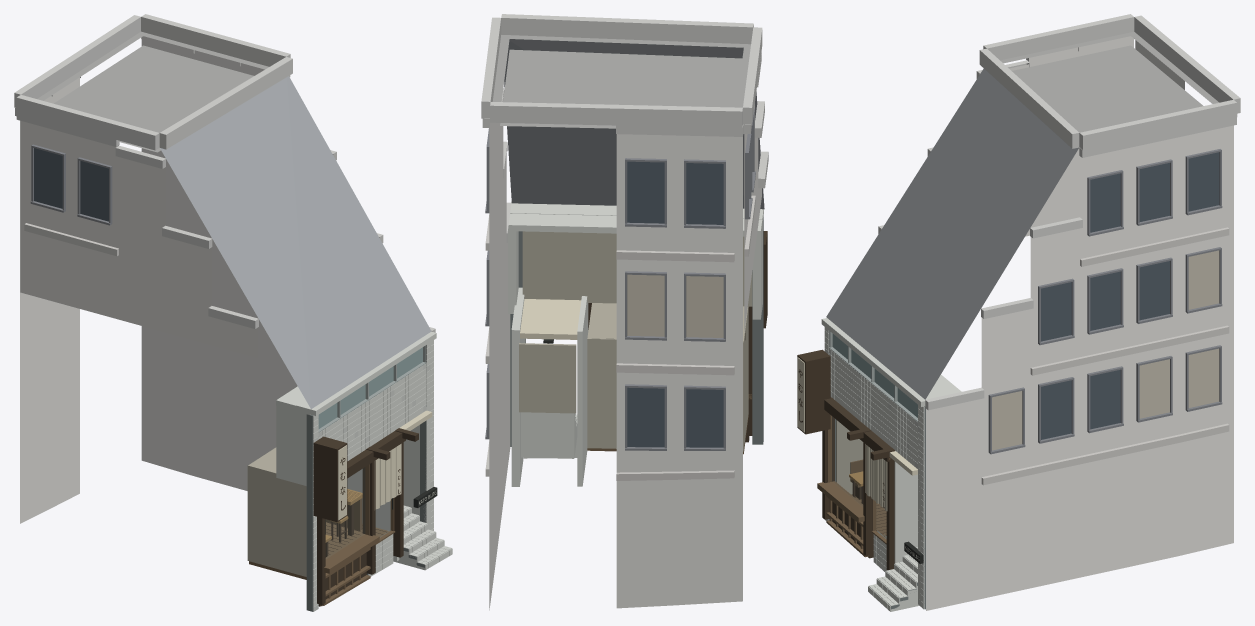
The model's file is d16-kato-composite.glb.
3 views of the same model, side by side, from view 1: azimuth 30°, elevation 25°; view 2: azimuth 150°, elevation 25°; view 3: azimuth 270°, elevation 25° (orthographic). The views are drawn at different scales.
Parts seen in each view (by area): view 1: 01_OBSERVED__Black metal; view 2: 01_OBSERVED__Black metal; view 3: 01_OBSERVED__Black metal.
Part boxes in pixels (bbox=[...]): 01_OBSERVED__Black metal: bbox=[14, 14, 452, 611]; 01_OBSERVED__Black metal: bbox=[481, 14, 768, 610]; 01_OBSERVED__Black metal: bbox=[797, 14, 1240, 611].
Size of the model in its own units: 10.13 by 13.59 by 12.28.
Materials: 3 (1 with a texture image).
